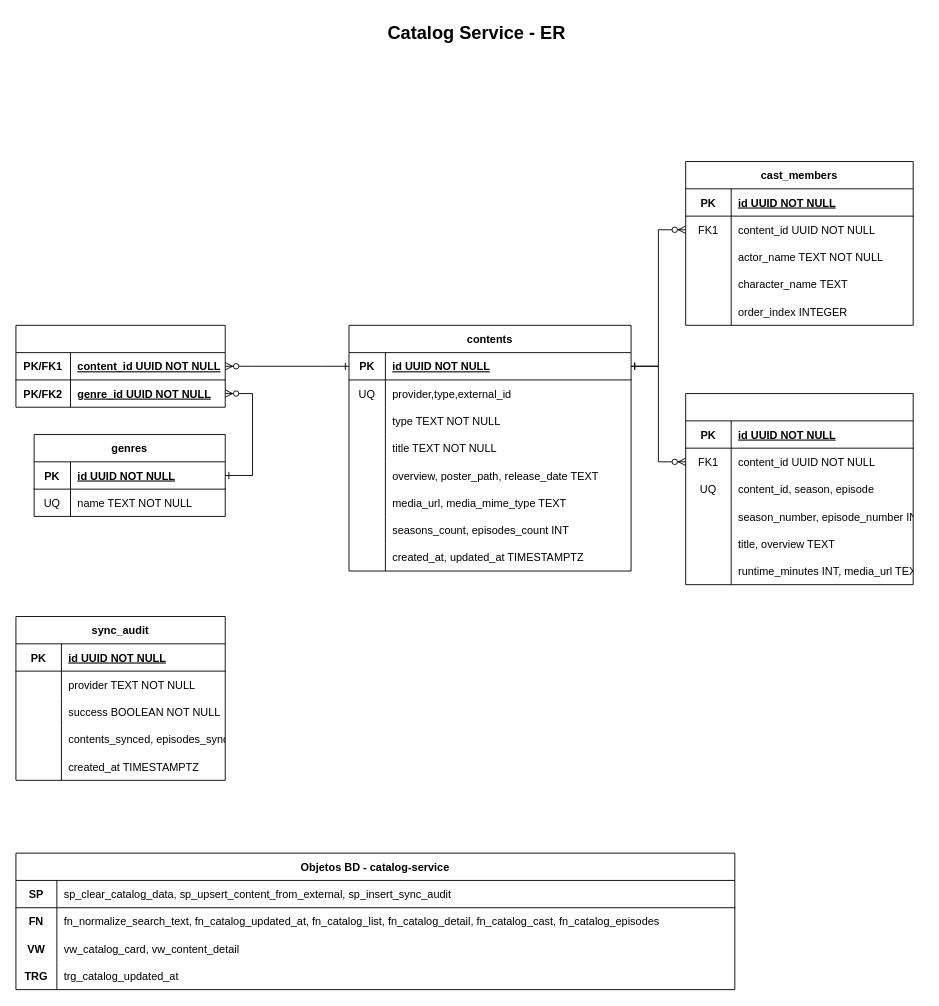
Some shapes in this 939 by 1006 pixel diagram are drawn without their labels. Here are the shapes that lost their labels. From the top down, the box of each, then its label:
(15, 324, 225, 407): content_genres
(685, 393, 913, 585): episodes
